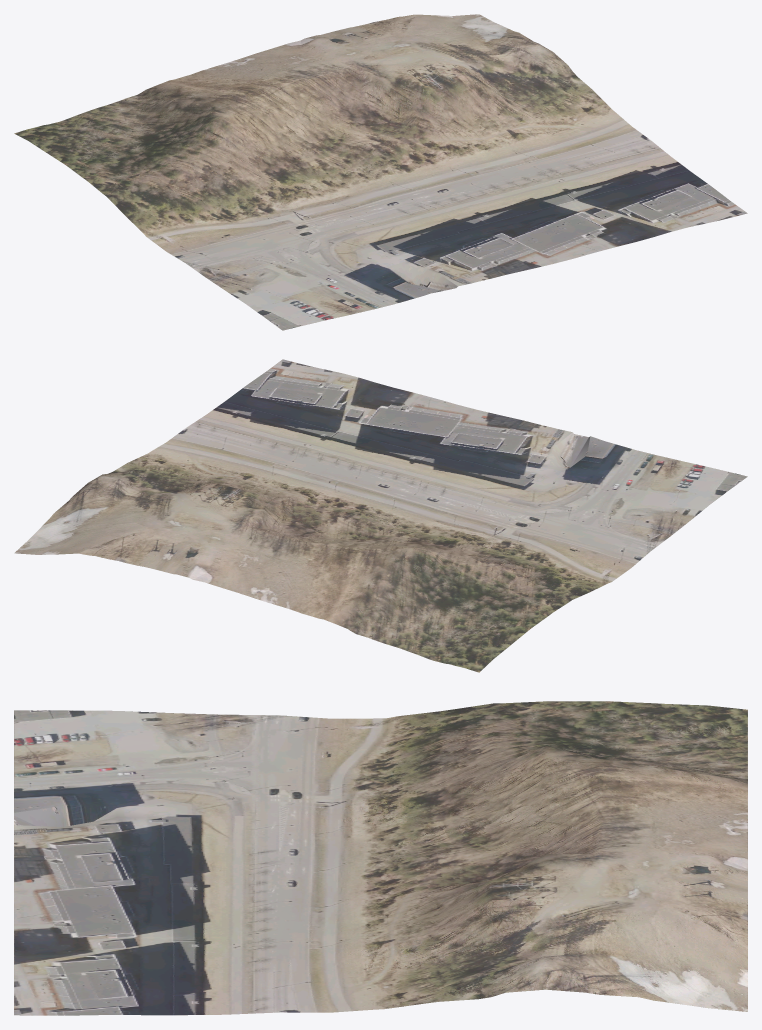
File: CM_Terrain_24491892_6816517.fbx
3 renders of one model, top to bottom at view 1: azimuth 30°, elevation 25°; view 2: azimuth 150°, elevation 25°; view 3: azimuth 270°, elevation 25°, orthographic. The views are drawn at different scales.
Visible parts, largest first — view 1: CM_Terrain_24491892_6816517_LOD0; view 2: CM_Terrain_24491892_6816517_LOD0; view 3: CM_Terrain_24491892_6816517_LOD0.
Part boxes in pixels (bbox=[...]): CM_Terrain_24491892_6816517_LOD0: bbox=[14, 14, 747, 330]; CM_Terrain_24491892_6816517_LOD0: bbox=[14, 359, 747, 672]; CM_Terrain_24491892_6816517_LOD0: bbox=[14, 701, 747, 1015].
Size of what is drawn, in the model's own units: 205 by 22.75 by 205.
